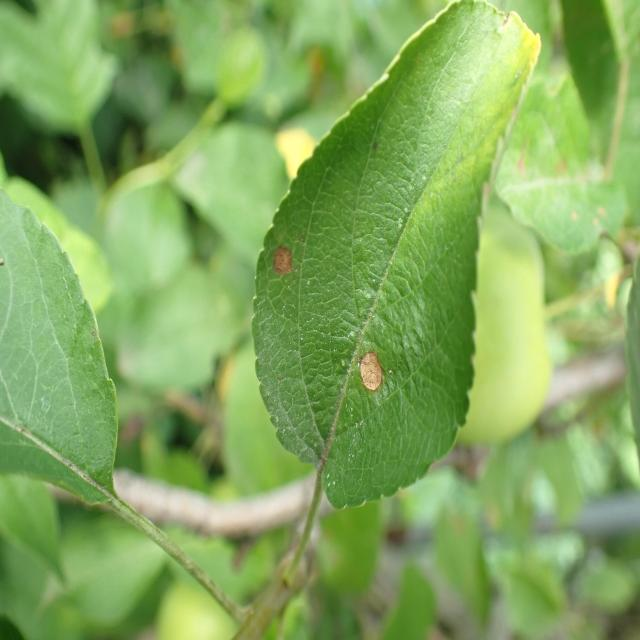Black Rot: (257, 232, 317, 304), (358, 344, 388, 408)
